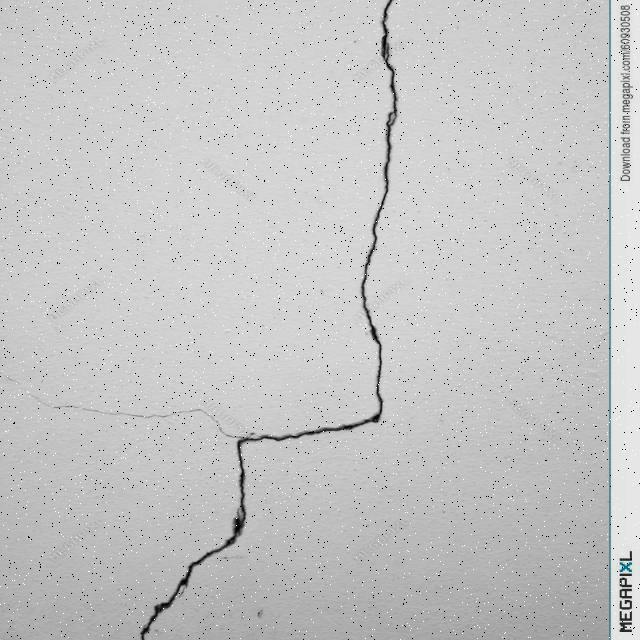minor crack: (377, 32, 424, 640)
moderate crack: (2, 374, 214, 426), (360, 147, 389, 395), (249, 413, 380, 440), (378, 4, 398, 148), (230, 441, 249, 542), (141, 590, 177, 635)
severe crack: (147, 18, 395, 640), (209, 417, 253, 440), (241, 430, 278, 443), (172, 407, 220, 416), (341, 421, 361, 431)
